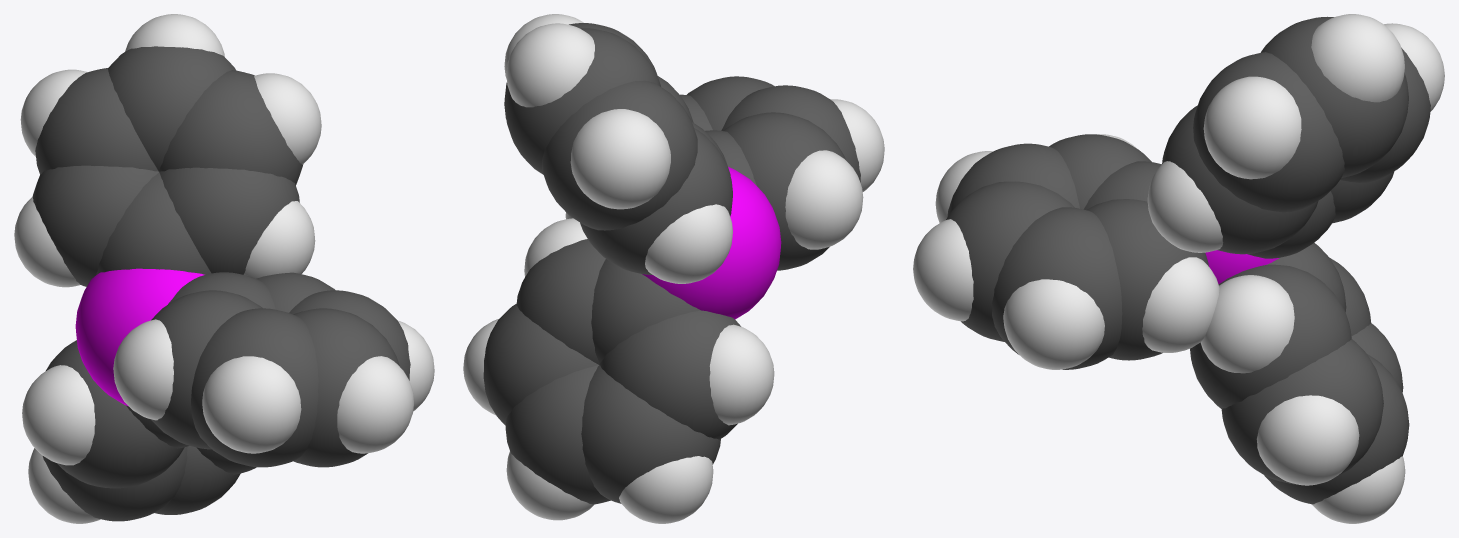
File: triphenylphosphine-2.fbx
3 views of the same model, side by side, from view 1: azimuth 30°, elevation 25°; view 2: azimuth 150°, elevation 25°; view 3: azimuth 270°, elevation 25° (orthographic). The views are drawn at different scales.
Parts seen in each view (by area): view 1: C27, C14, C16, C15, C20, C18, H32, P01, C31, C03, C25, C13 (+17 smaller); view 2: C03, C05, C18, H22, C09, P01, C25, C04, C07, C20, H28, C15 (+15 smaller); view 3: C29, C16, C07, C04, H21, C31, C20, H11, H33, C26, H08, H23 (+18 smaller).
Part boxes in pixels (x1,y1,x2,y2): C27: (191, 308, 318, 467); C14: (159, 167, 299, 274); C16: (159, 70, 303, 185); C15: (32, 165, 158, 286); C20: (108, 46, 236, 171); C18: (35, 68, 158, 174); H32: (202, 356, 301, 453); P01: (75, 268, 204, 406); C31: (293, 308, 399, 467); C03: (46, 340, 184, 488); C25: (150, 290, 262, 449); C13: (96, 172, 211, 274); C03: (599, 310, 740, 439); C05: (581, 365, 720, 503); C18: (542, 80, 697, 230); H22: (570, 109, 670, 209); C09: (505, 365, 610, 504); P01: (642, 166, 781, 319); C25: (723, 112, 845, 270); C04: (516, 239, 605, 364); C07: (483, 304, 598, 425); C20: (505, 28, 660, 174); H28: (785, 150, 863, 249); C15: (580, 128, 732, 274); C29: (992, 207, 1122, 369); C16: (1193, 52, 1344, 212); C07: (1221, 339, 1383, 484); C04: (1190, 264, 1351, 408); H21: (1203, 76, 1301, 179); C31: (946, 181, 1074, 341); C20: (1261, 16, 1408, 177); H11: (1256, 395, 1359, 485); H33: (1003, 279, 1104, 369); C26: (1086, 199, 1208, 360); H08: (1200, 275, 1294, 373); H23: (1311, 14, 1404, 102).
Size of the model in its own units: 711 by 1152 by 1110.
